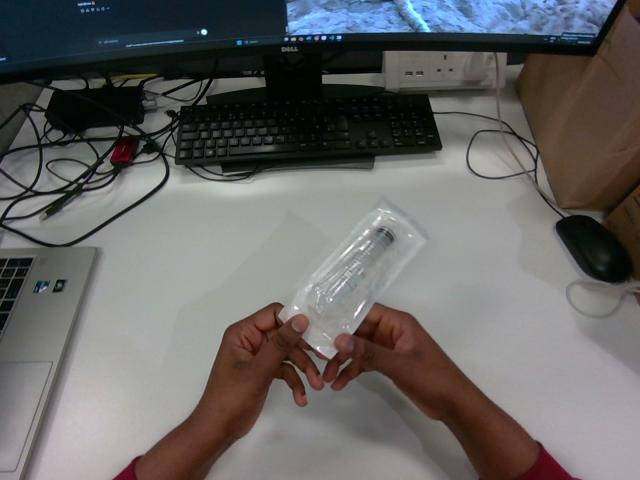syringe: (280, 199, 426, 357)
